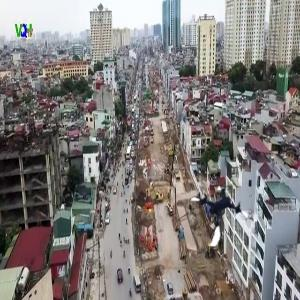drone: (184, 183, 251, 250)
